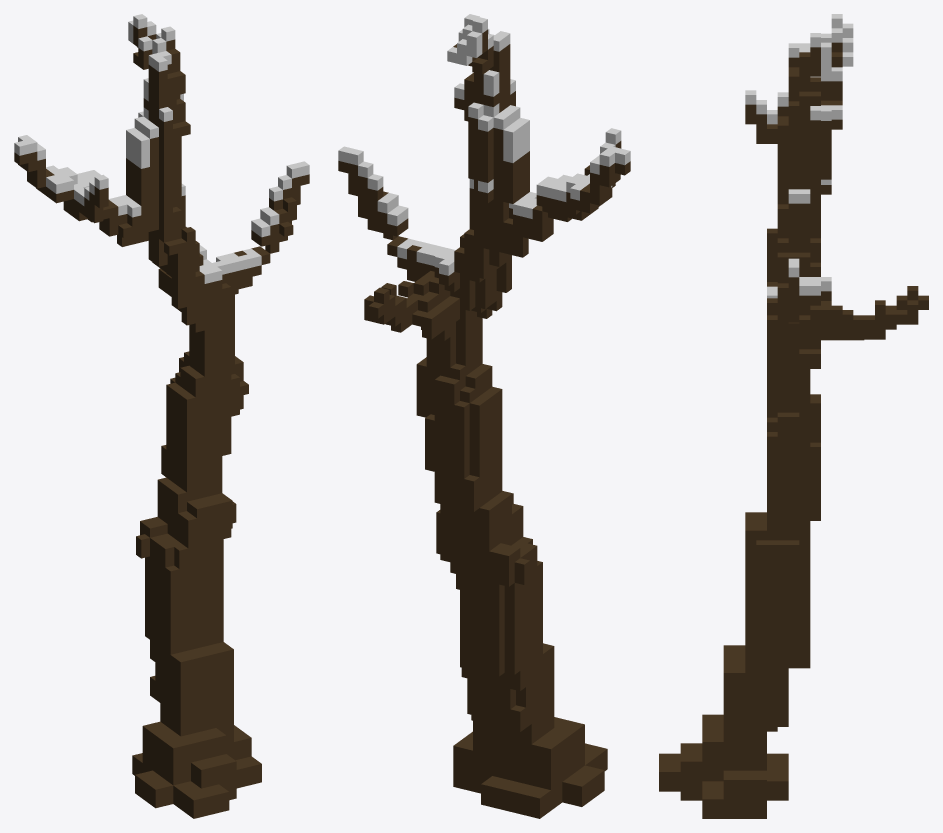
Rendered from Tree2.obj.
The picture shows the model from 3 angles, left to right: view 1: azimuth 30°, elevation 25°; view 2: azimuth 150°, elevation 25°; view 3: azimuth 270°, elevation 25°; orthographic projection. The views are drawn at different scales.
Size of the model in its own units: 3.1 by 7.9 by 2.5.
1 material, 1 textured.
